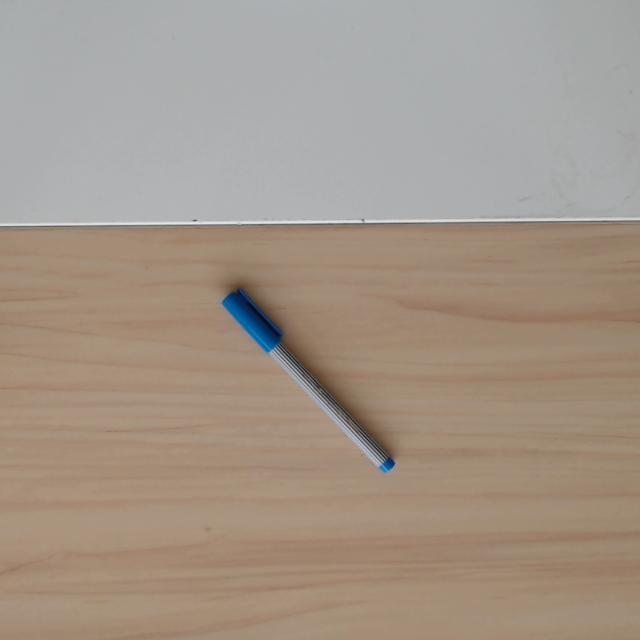Pulpen-Garis-Biru: (220, 285, 399, 481)
